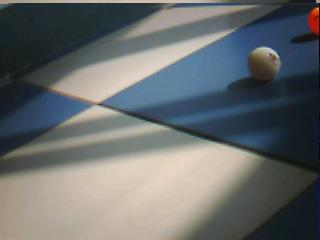oball: (308, 7, 320, 36)
